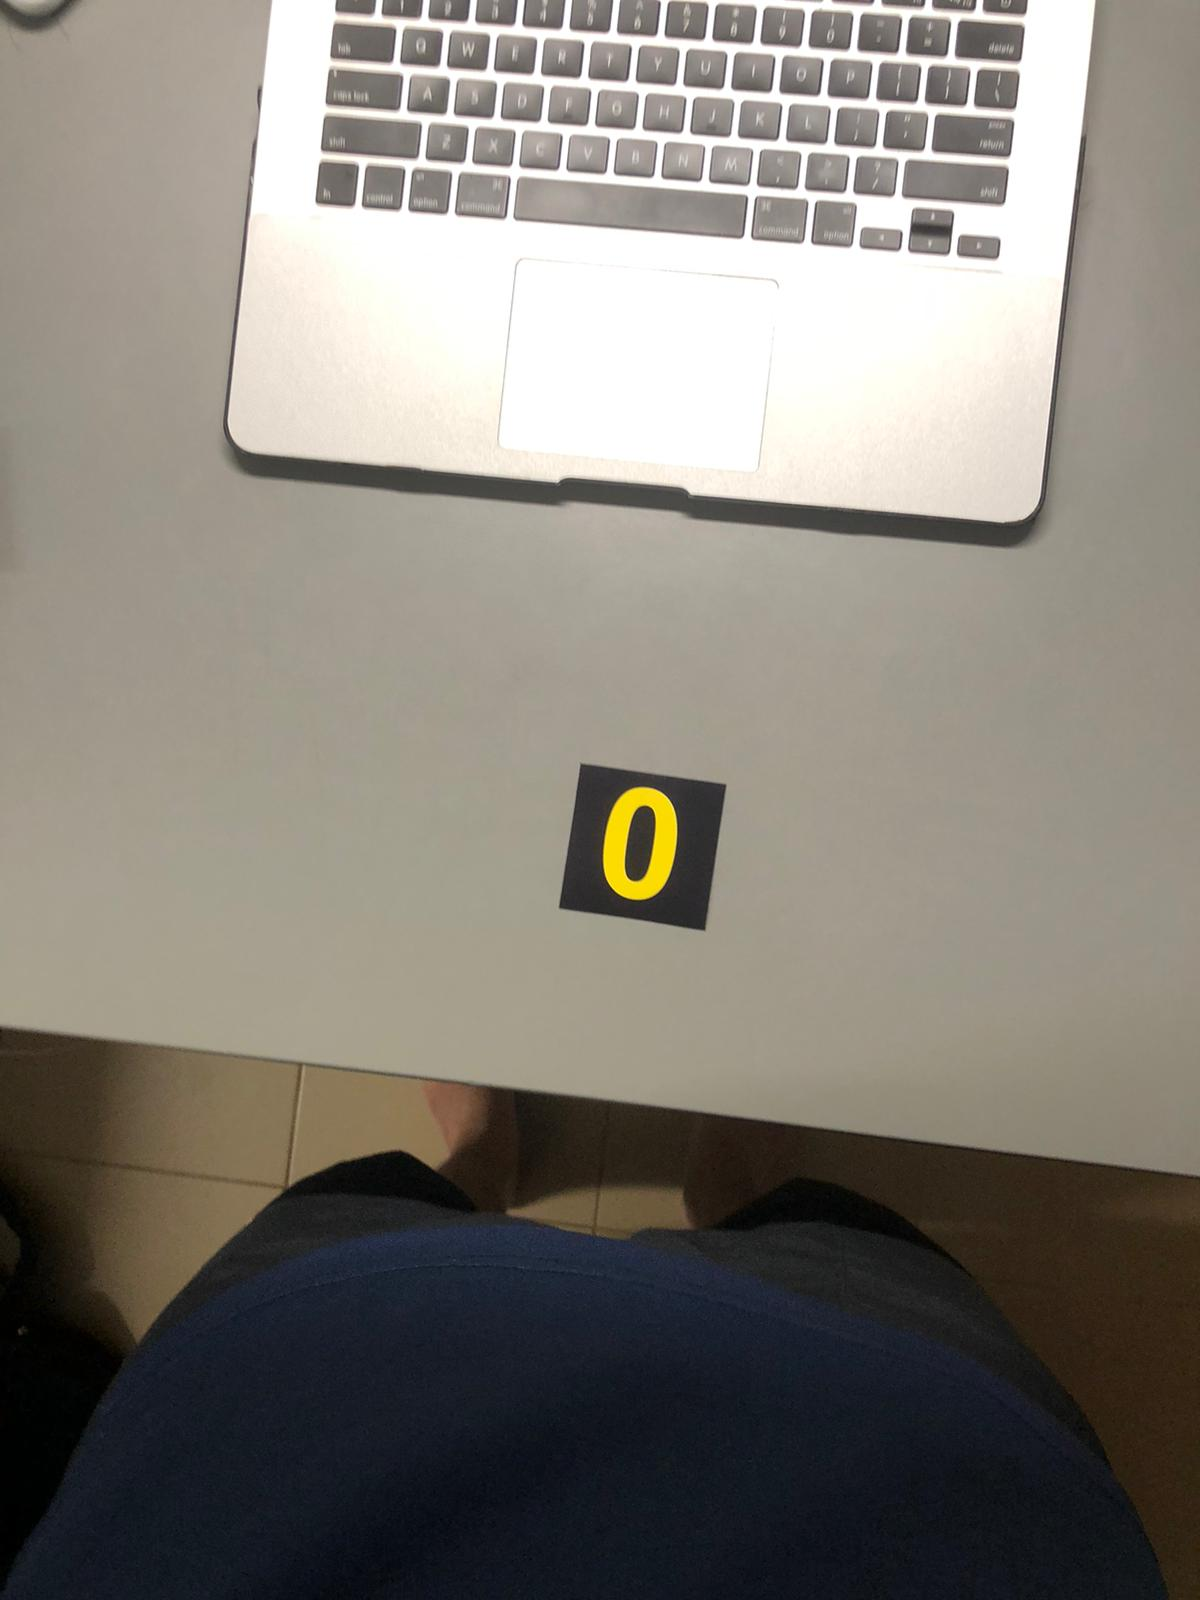Number 0: (566, 771, 711, 922)
